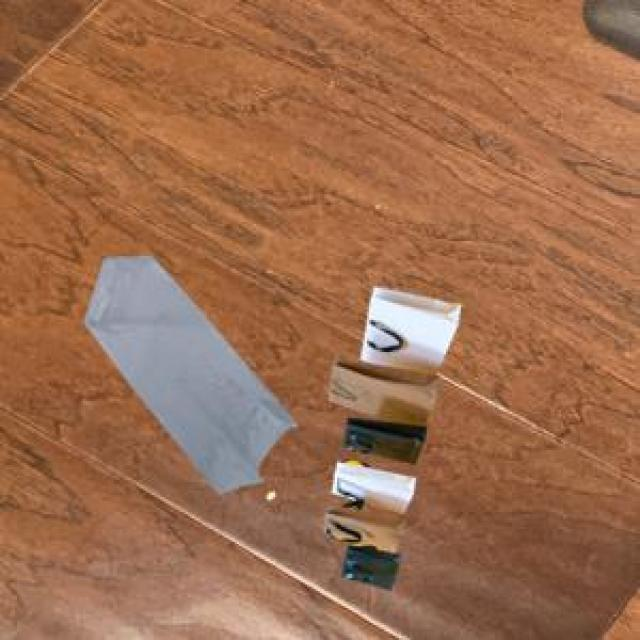paper: (320, 284, 457, 585)
